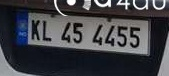4: (92, 24, 104, 46), (60, 22, 72, 43), (105, 25, 115, 47)
5: (129, 26, 141, 49), (72, 22, 84, 44), (116, 25, 128, 47)
K: (31, 19, 40, 40)
L: (41, 20, 52, 42)
